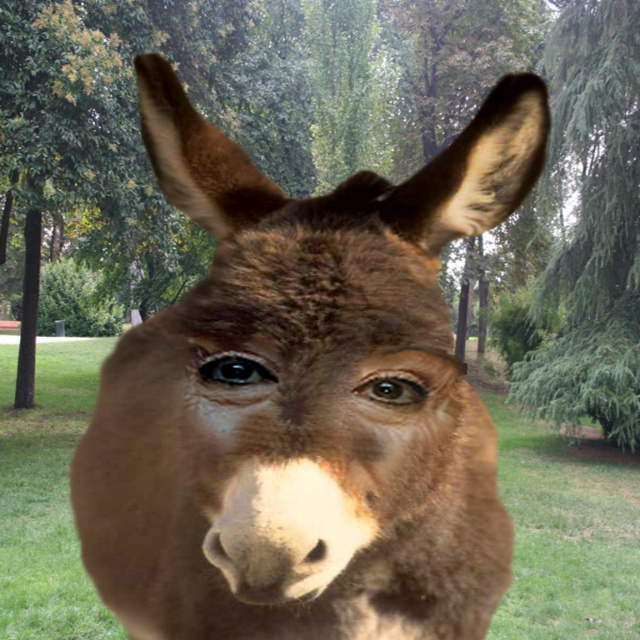Mule: (73, 50, 544, 639)
